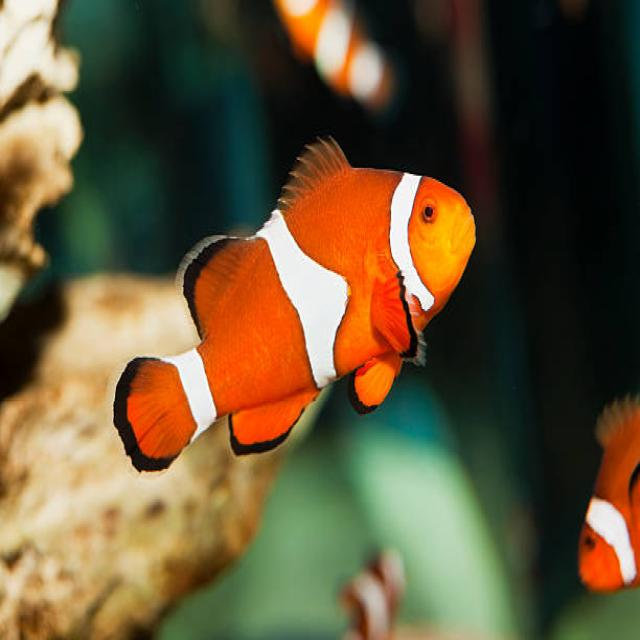ClownFish: (115, 140, 477, 482)
